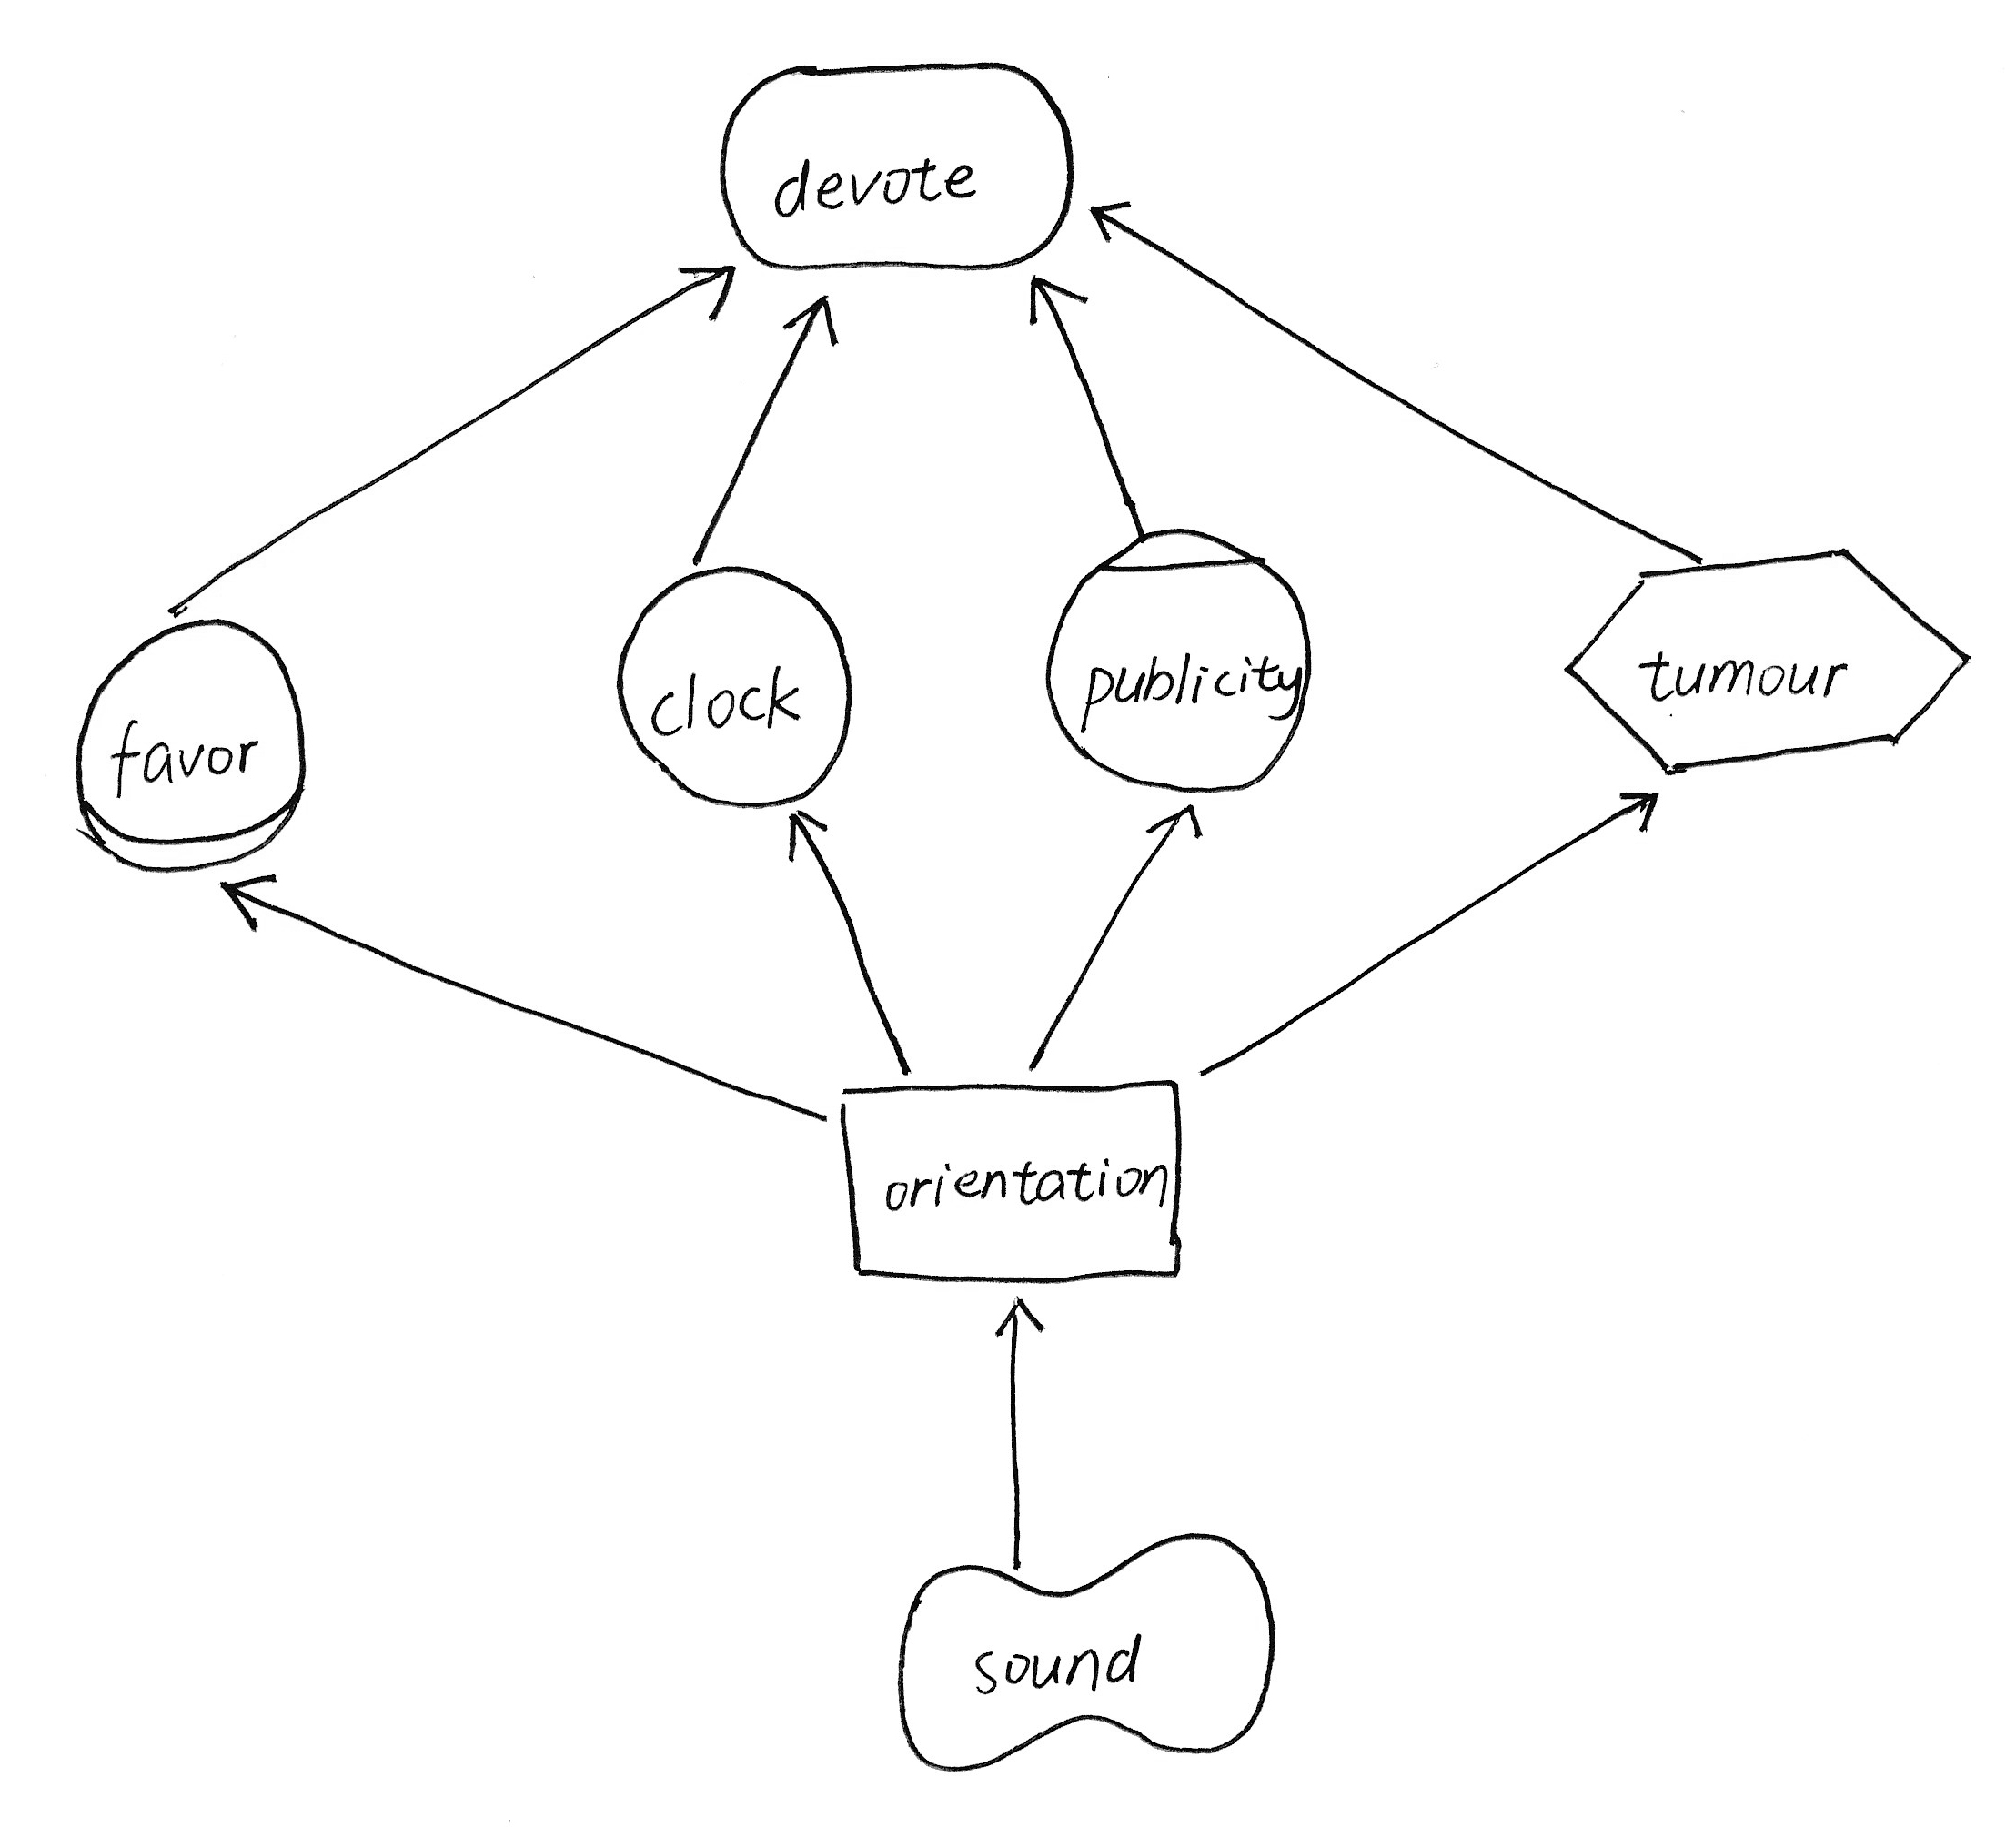actor: (594, 550, 873, 822)
agent: (1031, 509, 1328, 811)
arrow: (667, 248, 748, 328), (1017, 263, 1096, 344), (211, 859, 293, 934), (1605, 769, 1675, 855), (774, 797, 848, 874), (975, 1285, 1048, 1359), (1134, 790, 1212, 850), (780, 286, 841, 355), (1076, 186, 1141, 244)
goal: (695, 44, 1103, 295)
quality: (887, 1517, 1292, 1782)
resource: (811, 1061, 1205, 1306)
role: (58, 604, 325, 885)
task: (1551, 532, 1986, 787)
